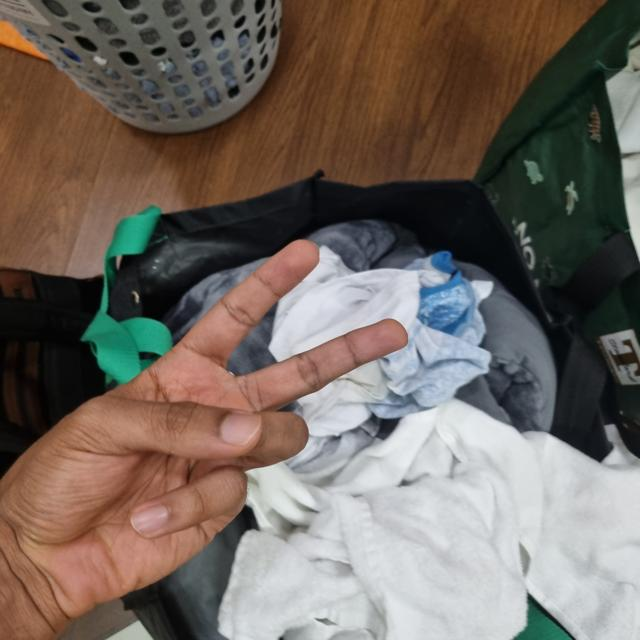Scissors: (0, 242, 407, 624)
